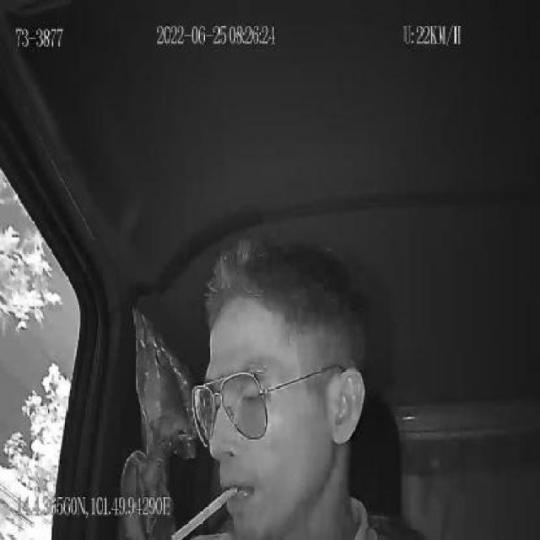smoking: (172, 485, 246, 540)
